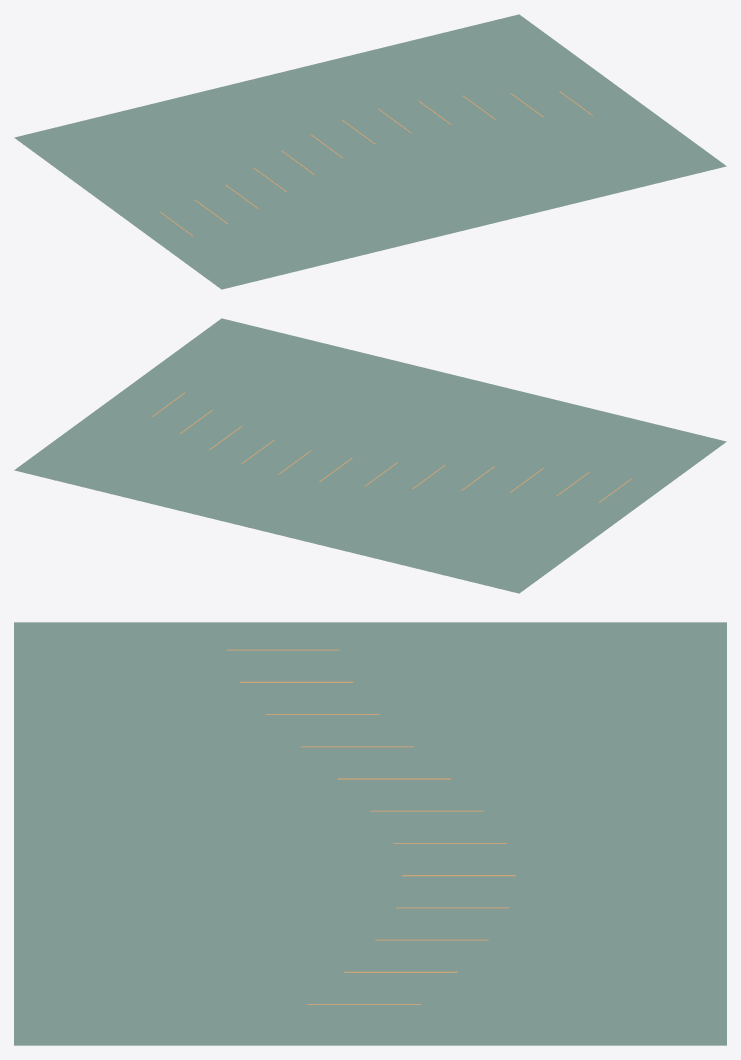
Rendered from 271_L119_L22_LayerReference.glb.
3 renders of one model, top to bottom at view 1: azimuth 30°, elevation 25°; view 2: azimuth 150°, elevation 25°; view 3: azimuth 270°, elevation 25°, orthographic. The views are drawn at different scales.
Visible parts, largest first — view 1: 0000__PSMAT__dielectric; view 2: 0000__PSMAT__dielectric; view 3: 0000__PSMAT__dielectric.
Part boxes in pixels (box(x1,y1,x2,y2)): 0000__PSMAT__dielectric: box(14, 14, 726, 289); 0000__PSMAT__dielectric: box(14, 318, 726, 593); 0000__PSMAT__dielectric: box(14, 622, 726, 1045).
Size of the model in its own units: 0.486 by 8.8e-05 by 0.346.
